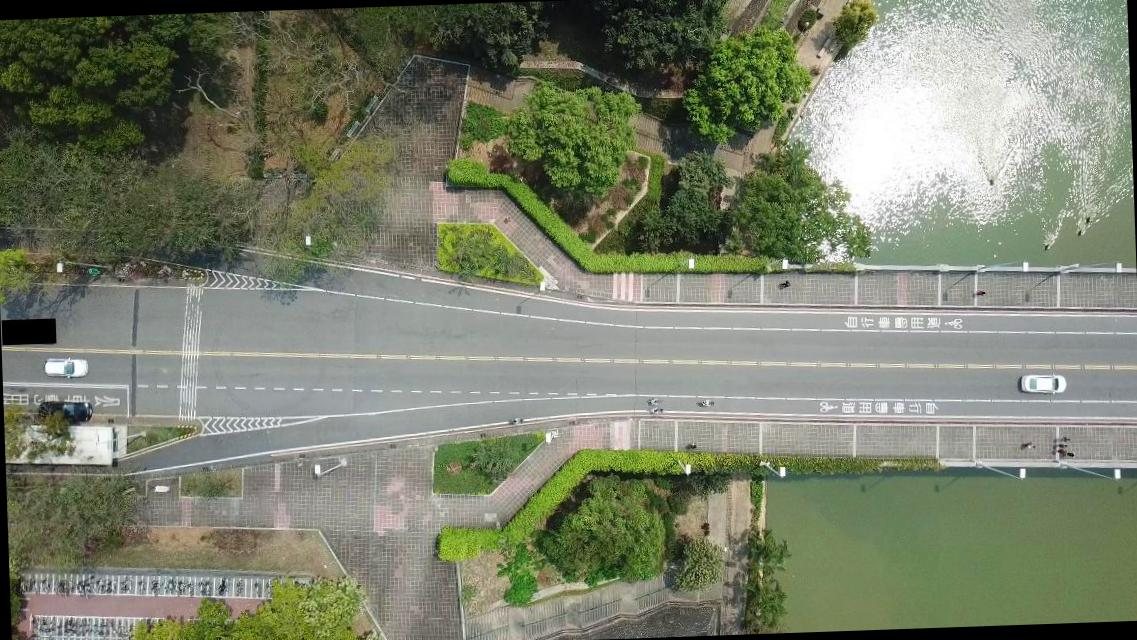vehicle: (38, 399, 93, 424), (1020, 372, 1066, 396), (43, 356, 88, 379)
